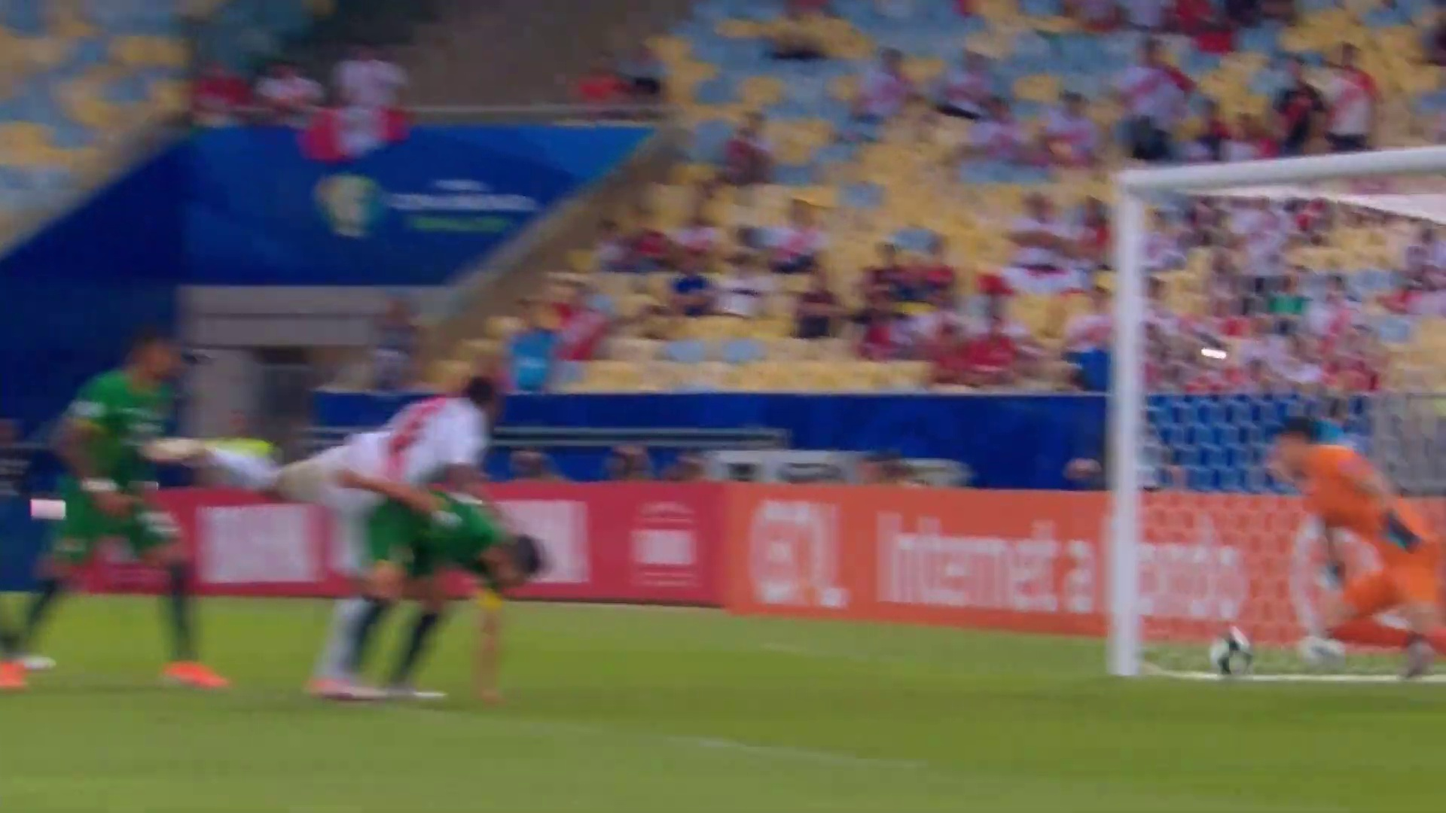ball: (1204, 616, 1258, 688)
player: (143, 363, 502, 701), (2, 323, 226, 688), (325, 464, 545, 698), (1265, 407, 1444, 683)
